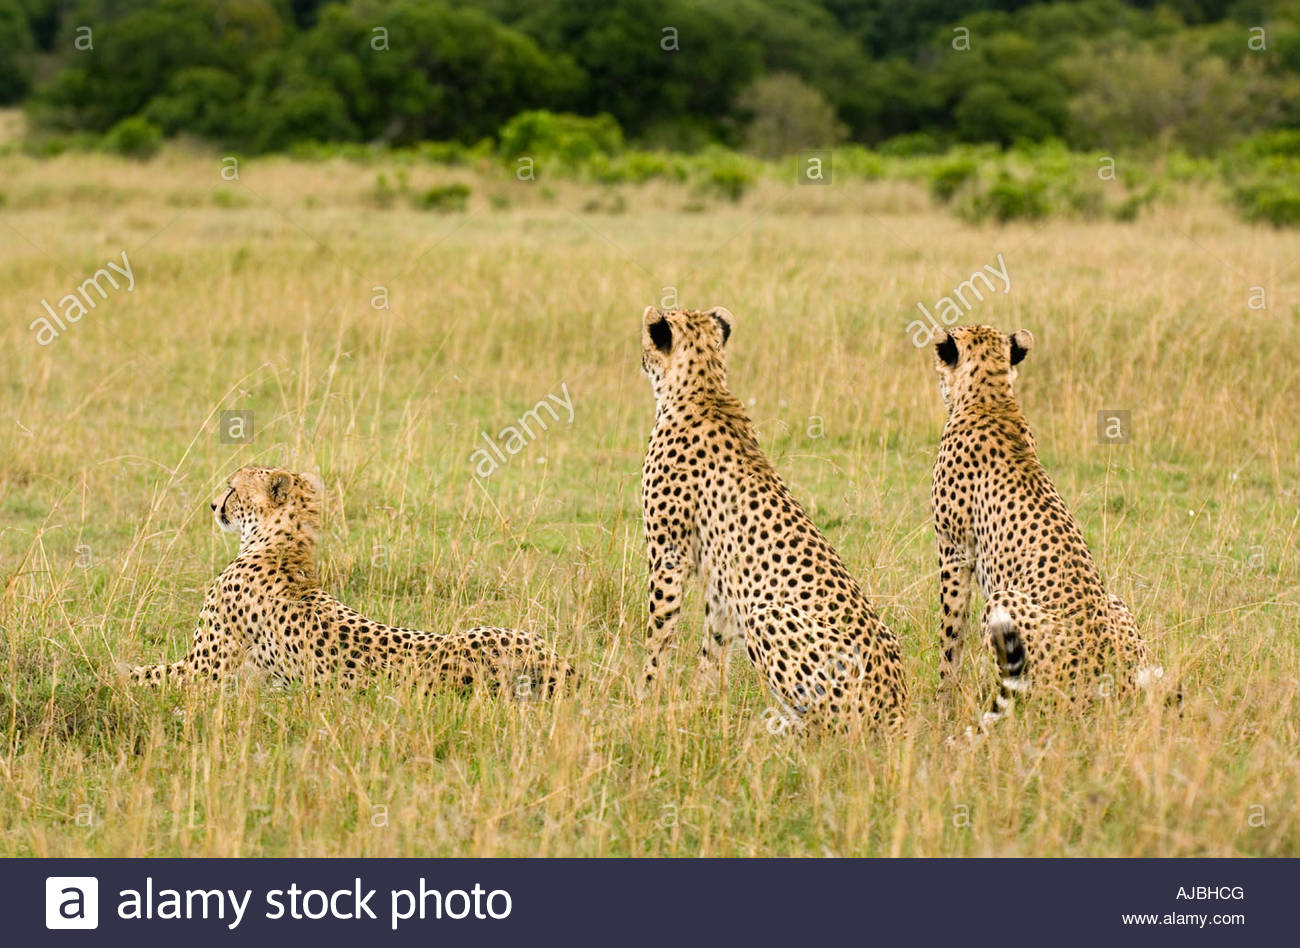Cheetah: (602, 302, 904, 763), (114, 449, 572, 732), (918, 316, 1157, 761)
